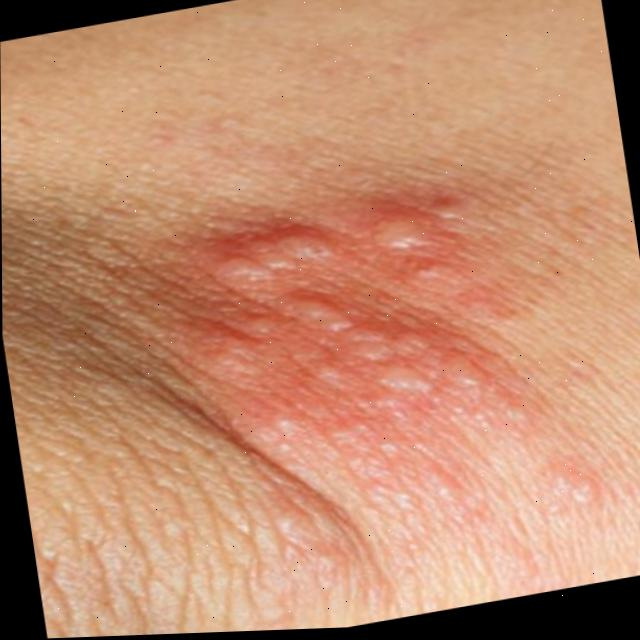Eczema: (176, 164, 535, 544)
